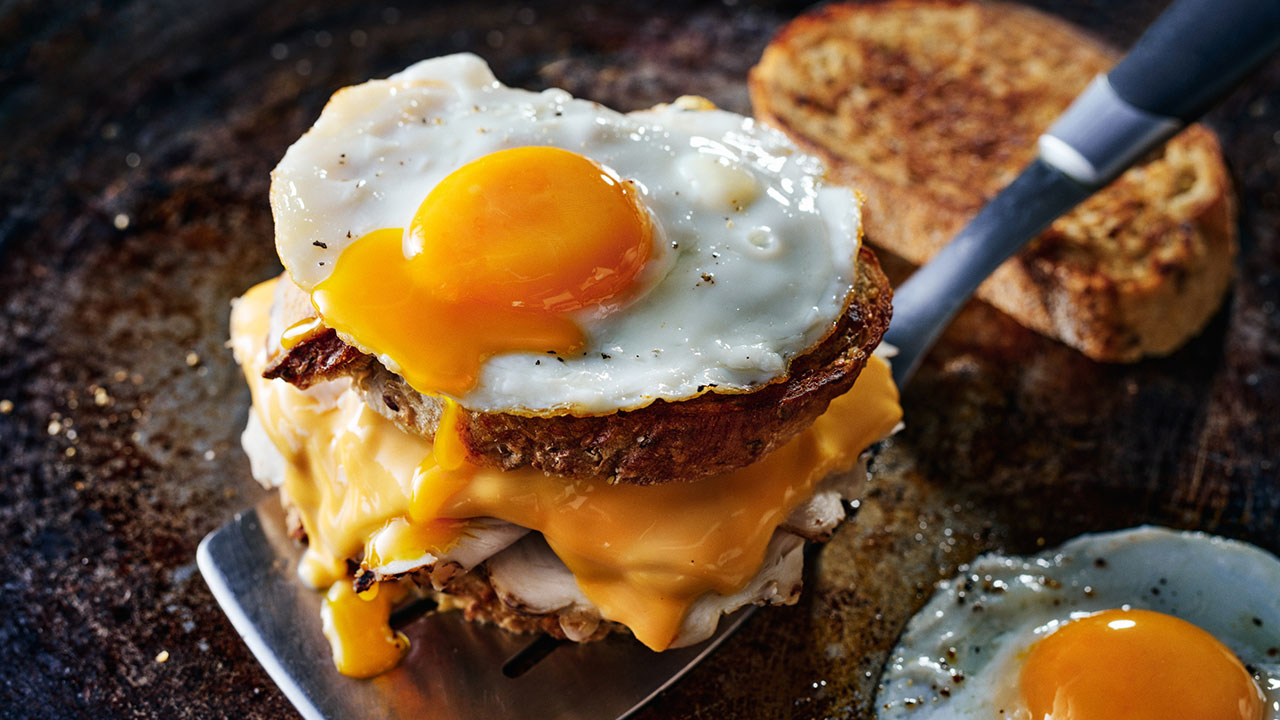Sunny Side Up: (270, 47, 866, 423)
